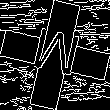M_S: (27, 26, 83, 84)
